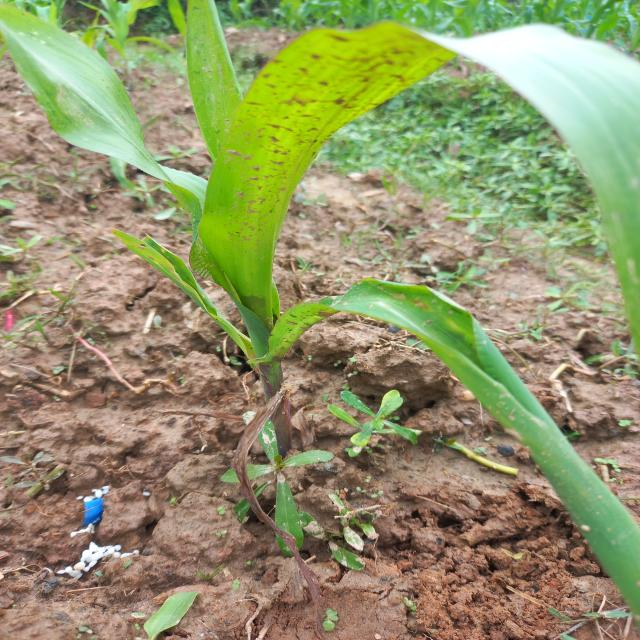maize: (0, 0, 639, 397)
weed: (362, 134, 582, 266), (195, 422, 380, 574), (305, 376, 431, 454), (409, 251, 500, 307)
